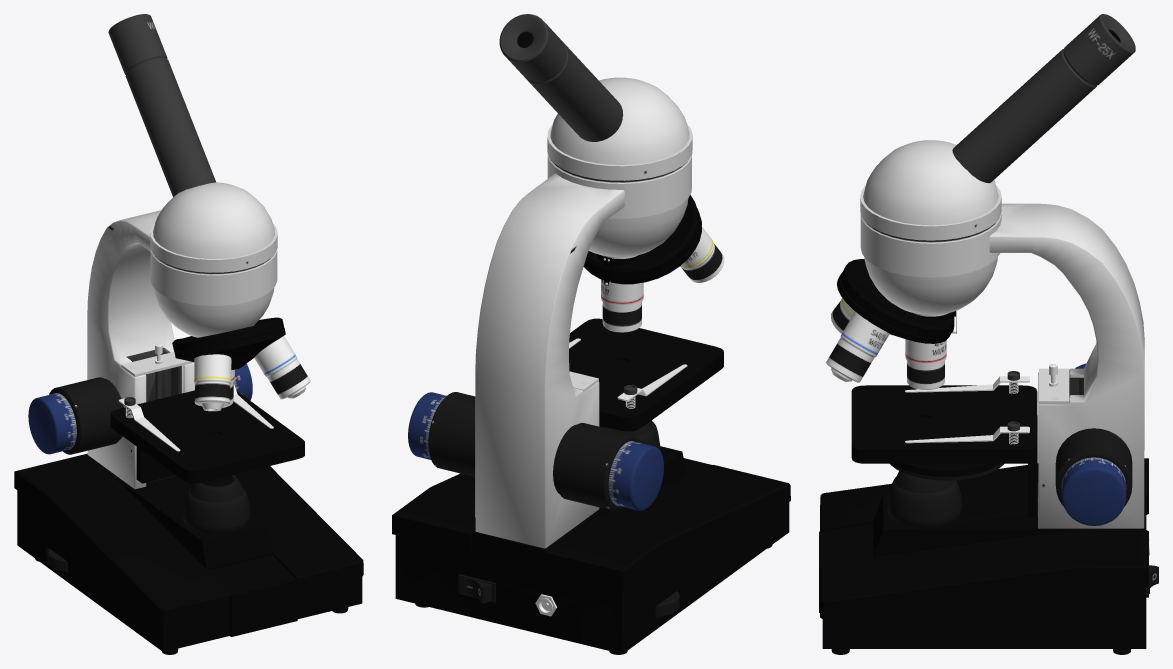
The picture shows the model from 3 angles, left to right: view 1: azimuth 30°, elevation 25°; view 2: azimuth 150°, elevation 25°; view 3: azimuth 270°, elevation 25°; orthographic projection. The views are drawn at different scales.
Visible parts, largest first — view 1: Microscope; view 2: Microscope; view 3: Microscope.
Part boxes in pixels (x1,y1,x2,y2): Microscope: [14, 14, 363, 654]; Microscope: [392, 14, 790, 654]; Microscope: [819, 14, 1158, 654].
Bounding box in the file's own units: 13.46 × 32.73 × 17.15.
Materials: 1 (1 with a texture image).
